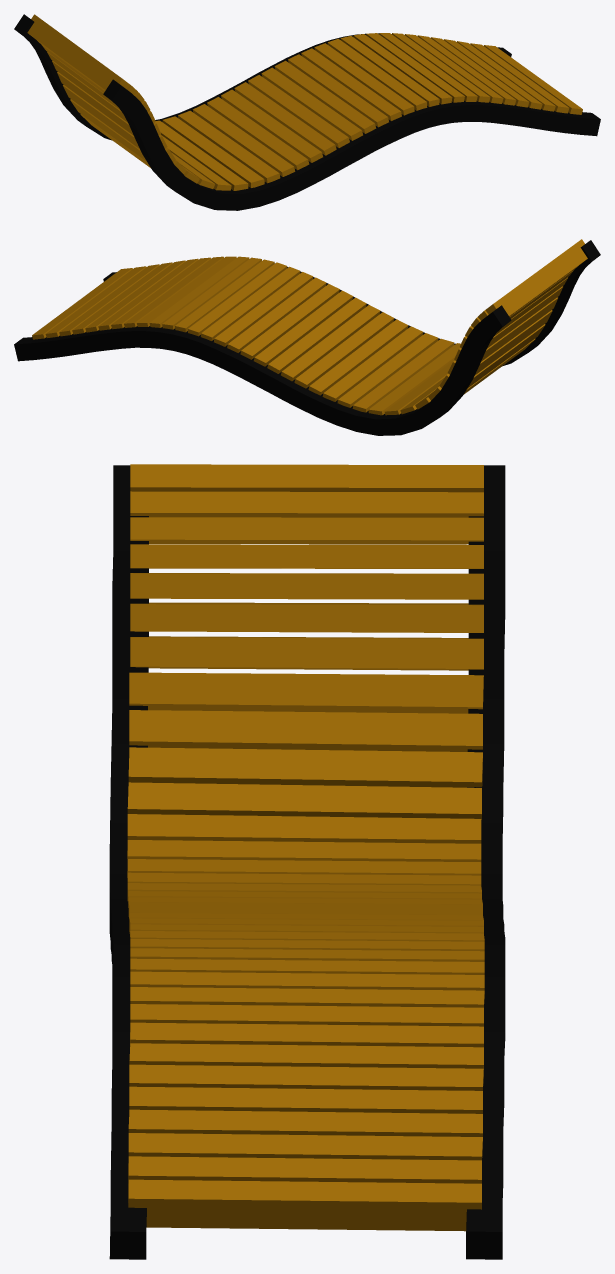
File: lounge_chair.glb
The picture shows the model from 3 angles, top to bottom: view 1: azimuth 30°, elevation 25°; view 2: azimuth 150°, elevation 25°; view 3: azimuth 270°, elevation 25°; orthographic projection. The views are drawn at different scales.
Parts seen in each view (by area): view 1: Object_4, Object_5; view 2: Object_4, Object_5; view 3: Object_4, Object_5.
Boxes of the visible parts, left/top/right/bottom form: Object_4: left=27, top=14, right=582, bottom=190; Object_5: left=14, top=14, right=600, bottom=210; Object_4: left=32, top=239, right=587, bottom=415; Object_5: left=14, top=240, right=600, bottom=435; Object_4: left=127, top=464, right=484, bottom=1231; Object_5: left=109, top=465, right=505, bottom=1259.
Size of the model in its own units: 18.92 by 6.24 by 6.63.
